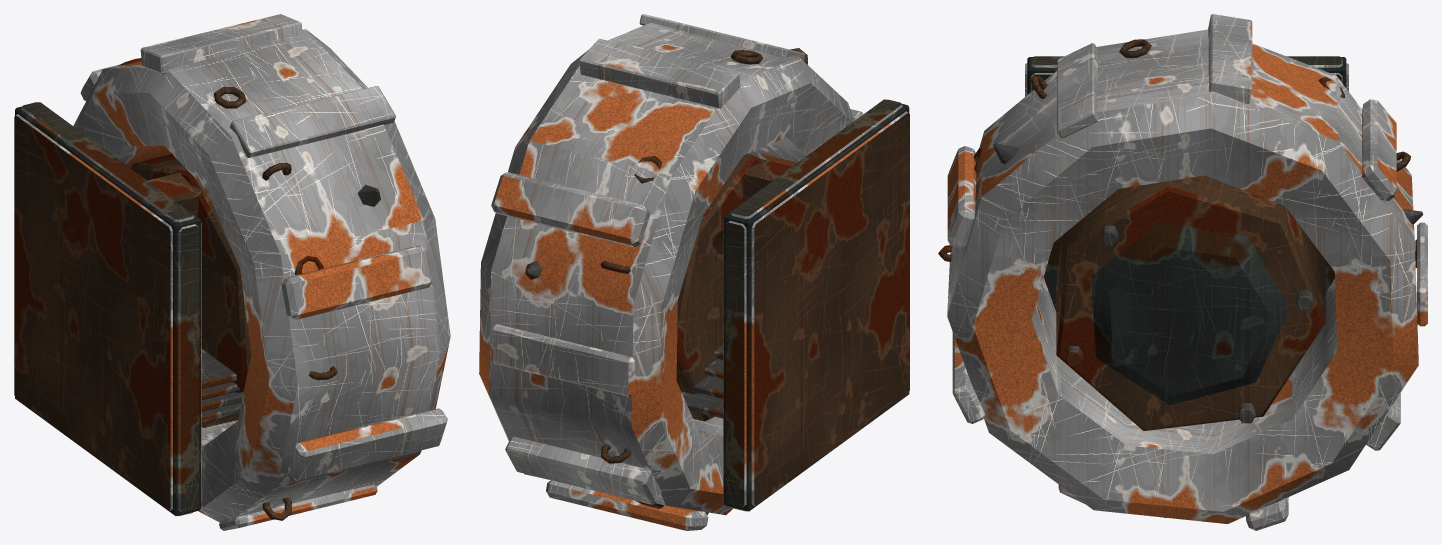
Rendered from R4M_WheelM_Side_Offroad.glb.
The picture shows the model from 3 angles, left to right: view 1: azimuth 30°, elevation 25°; view 2: azimuth 150°, elevation 25°; view 3: azimuth 270°, elevation 25°; orthographic projection.
Visible parts, largest first — view 1: R4M_WheelM_Side_Offroad_Rotor, R4M_WheelM_Side_Offroad_Mount; view 2: R4M_WheelM_Side_Offroad_Rotor, R4M_WheelM_Side_Offroad_Mount; view 3: R4M_WheelM_Side_Offroad_Rotor, R4M_WheelM_Side_Offroad_Mount.
Boxes of the visible parts, <box> form: R4M_WheelM_Side_Offroad_Rotor: <box>73,14,450,530</box>; R4M_WheelM_Side_Offroad_Mount: <box>14,102,243,516</box>; R4M_WheelM_Side_Offroad_Rotor: <box>479,14,863,530</box>; R4M_WheelM_Side_Offroad_Mount: <box>680,99,909,511</box>; R4M_WheelM_Side_Offroad_Rotor: <box>938,14,1427,530</box>; R4M_WheelM_Side_Offroad_Mount: <box>1025,56,1348,311</box>.
Size of the model in its own units: 0.448 by 0.7697 by 0.756.
5 materials, 5 textured.
